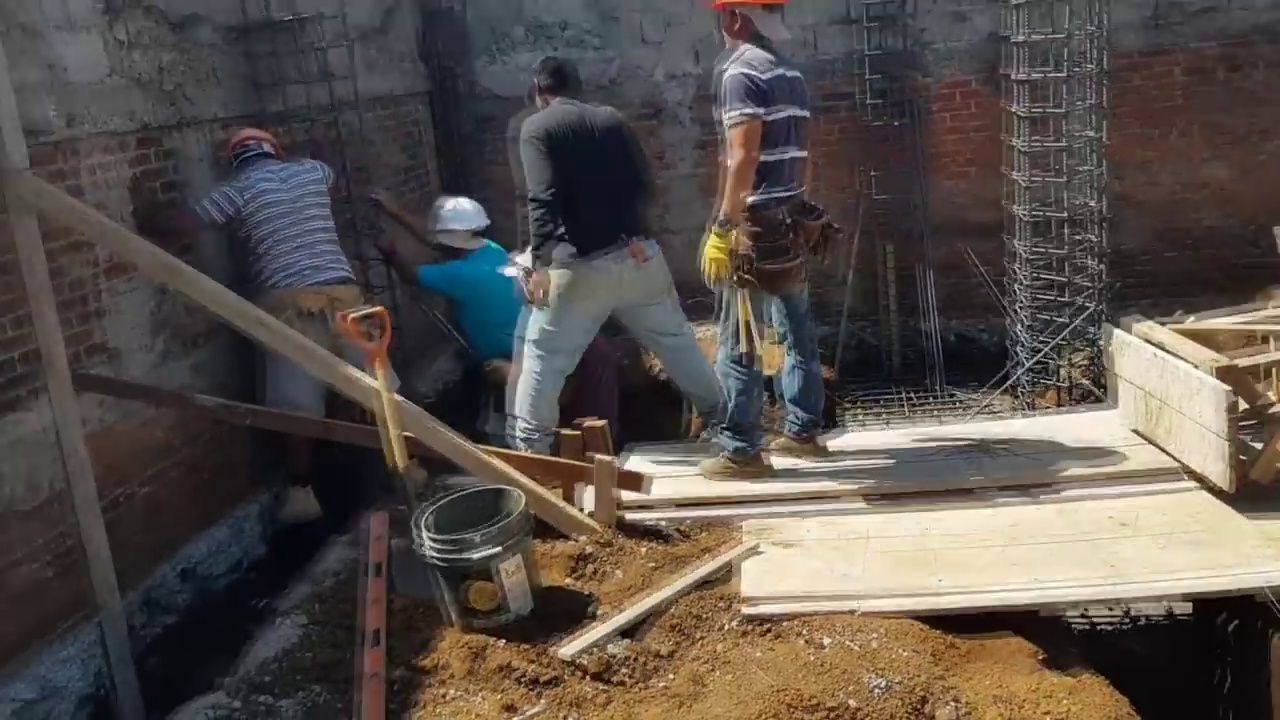helmet: (422, 195, 487, 240), (224, 127, 281, 165)
helmet-off: (703, 1, 790, 54), (527, 54, 579, 106)
helmet-on: (424, 191, 494, 264), (221, 124, 287, 174)
person: (489, 47, 755, 461), (129, 126, 351, 419), (701, 4, 820, 445), (400, 188, 536, 423)
